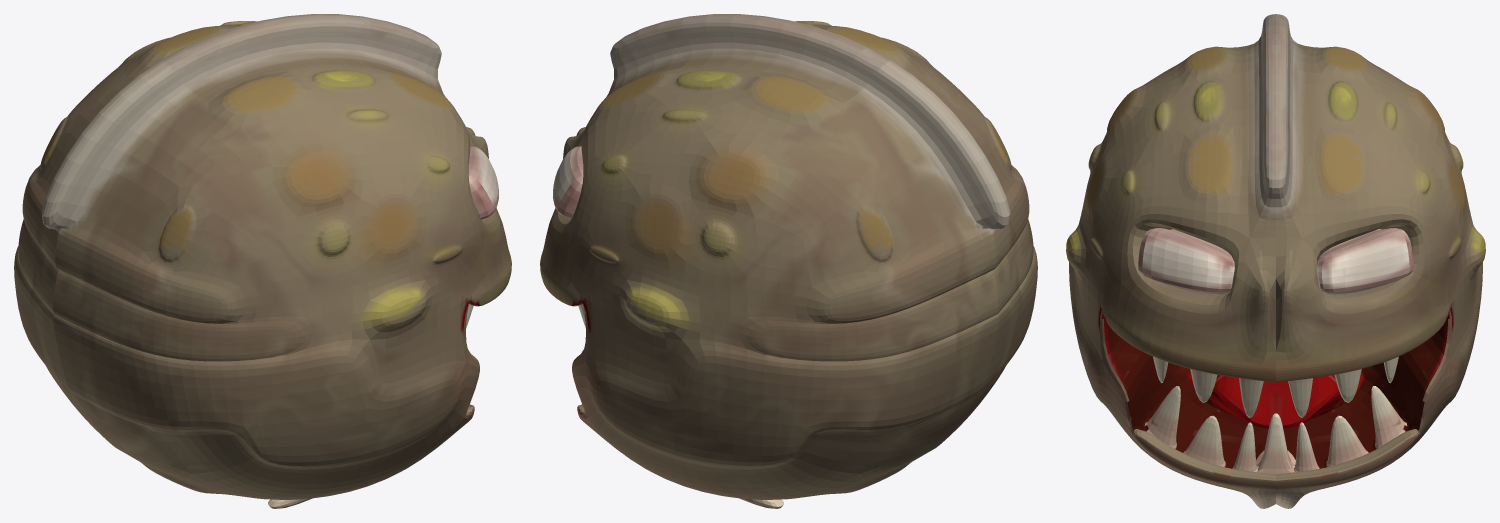
Rendered from guzelpacmantexture.fbx.
The picture shows the model from 3 angles, left to right: view 1: azimuth 30°, elevation 25°; view 2: azimuth 150°, elevation 25°; view 3: azimuth 270°, elevation 25°; orthographic projection. The views are drawn at different scales.
Parts seen in each view (by area): view 1: Cube; view 2: Cube; view 3: Cube.
Part boxes in pixels (bbox=[...]): Cube: bbox=[14, 14, 511, 508]; Cube: bbox=[540, 14, 1037, 508]; Cube: bbox=[1066, 14, 1485, 508].
Bounding box in the file's own units: 183 × 194 × 166.
1 material, 1 textured.
